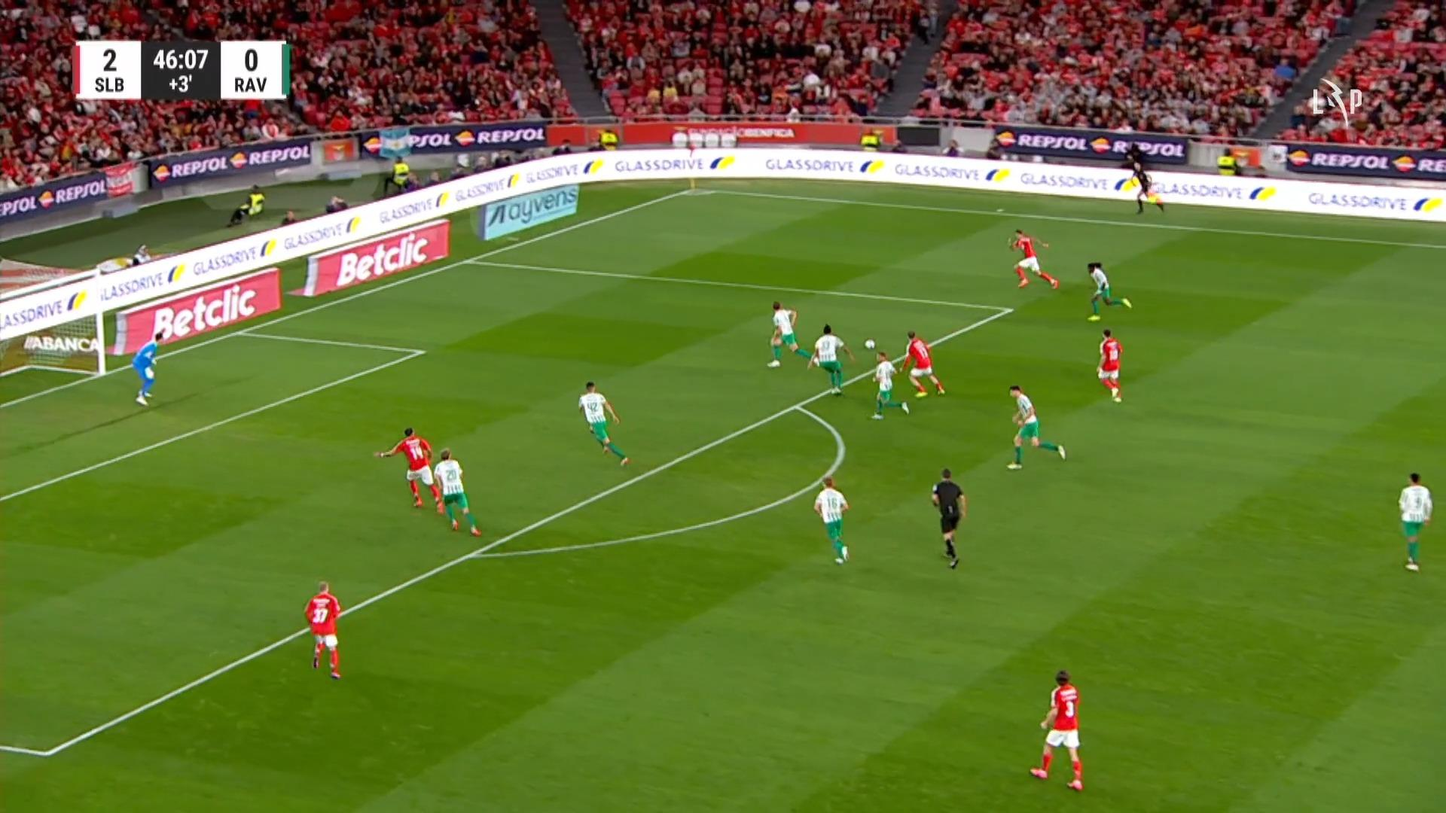ball: (864, 339, 875, 349)
goalkeeper: (130, 329, 164, 406)
player: (1029, 668, 1084, 790), (374, 426, 444, 513), (1005, 383, 1066, 470), (577, 380, 630, 467), (432, 447, 481, 536), (304, 580, 342, 679), (1397, 470, 1432, 571), (807, 323, 855, 395), (813, 475, 850, 564), (1007, 227, 1059, 290), (899, 329, 946, 397), (766, 300, 812, 367), (1086, 260, 1131, 321), (870, 350, 909, 419), (1096, 327, 1123, 402)
referee: (930, 467, 967, 568), (1124, 160, 1165, 214)
